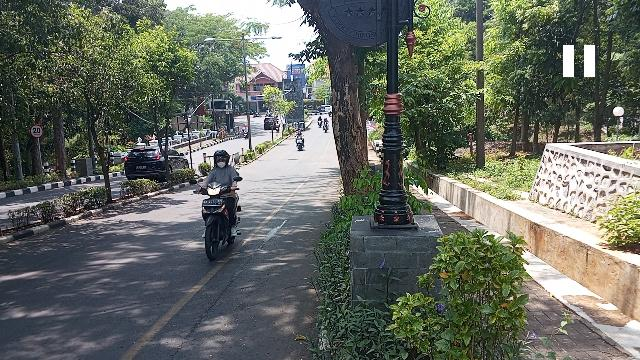helm: (215, 151, 231, 170)
motor: (190, 176, 244, 263)
